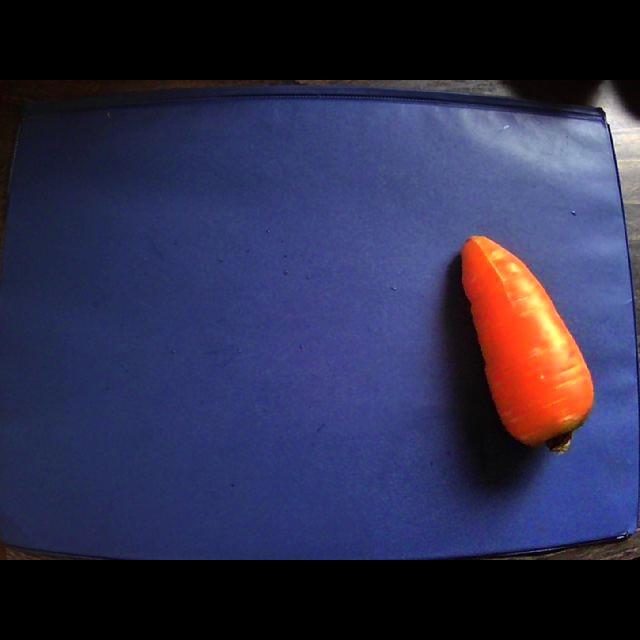zanahoria: (461, 236, 593, 450)
